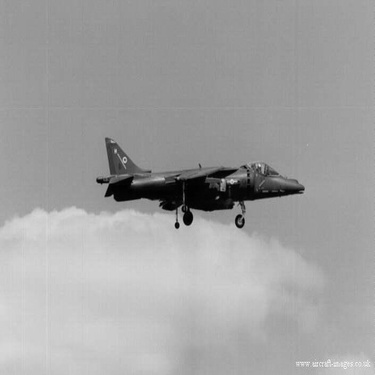airplane: (76, 124, 309, 237)
